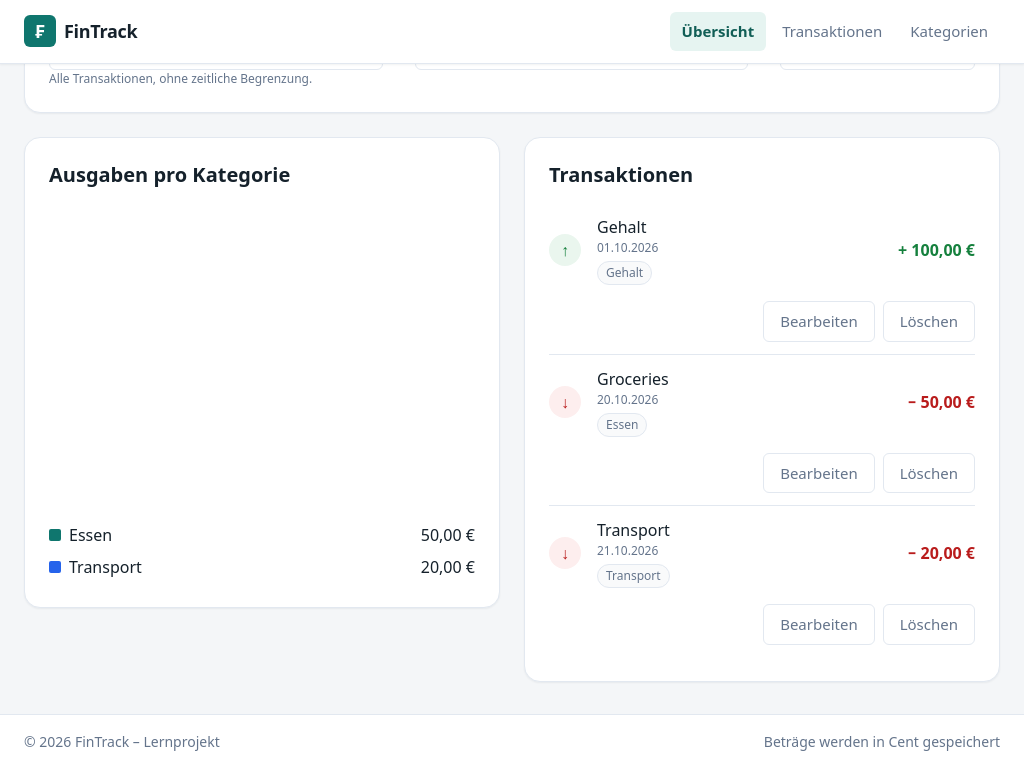
Scenario: shared transaction filters › switches transaction type and resets the category to one valid for that type
(page scrolled)
Click the button with aria-label "Groceries vom 20.10.2026, 50,00 € bearbeiten": click(819, 473) [763,452,875,493]
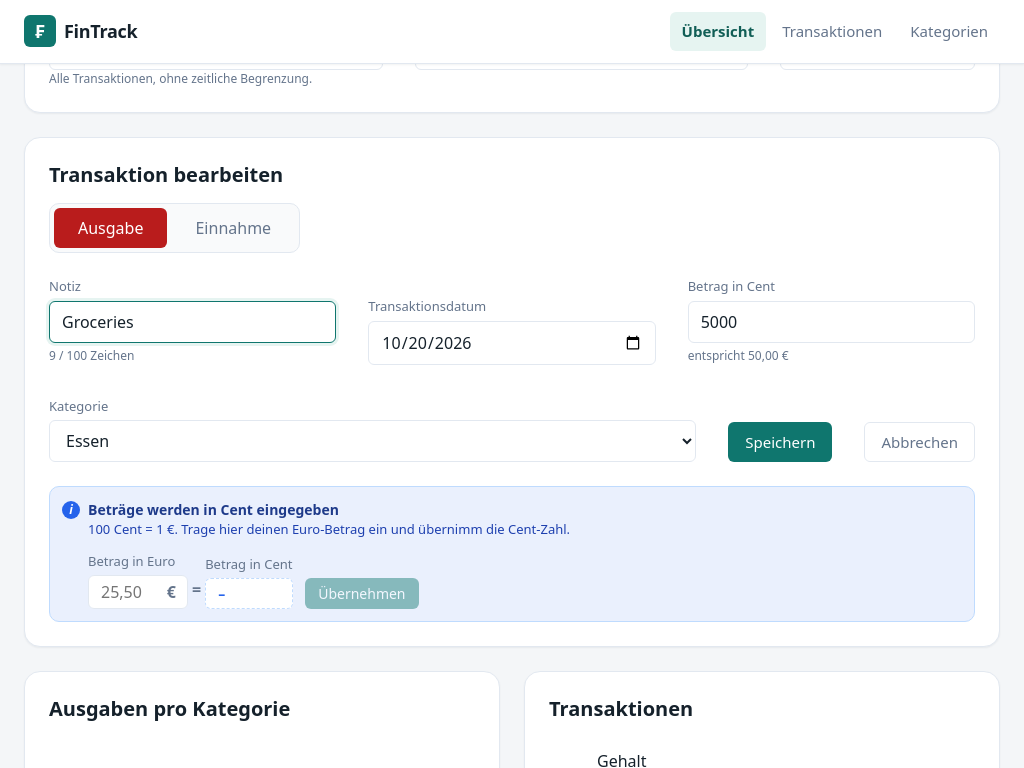
Click the button "Einnahme": click(233, 228) [172,208,295,248]
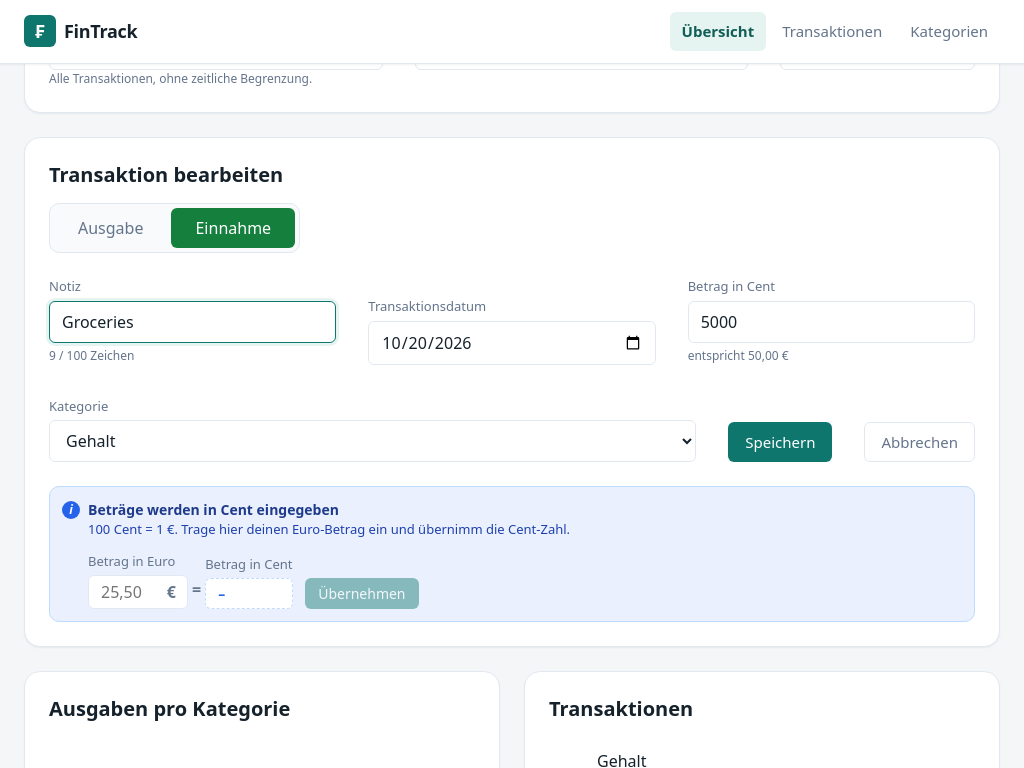
expect the dropdown labelled "Kategorie" shows "Gehalt": met
Select "Geschenk" in the dropdown labelled "Kategorie": (373, 441) [49,420,696,462]
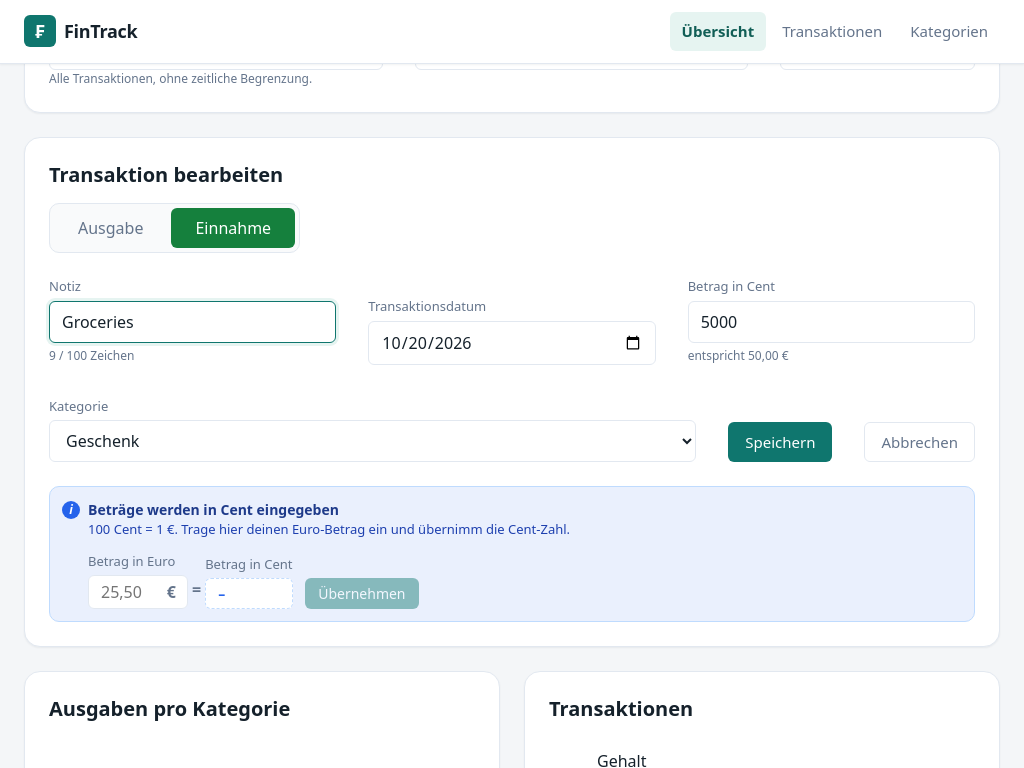
Click the button "Speichern": click(780, 442) [728,422,832,462]
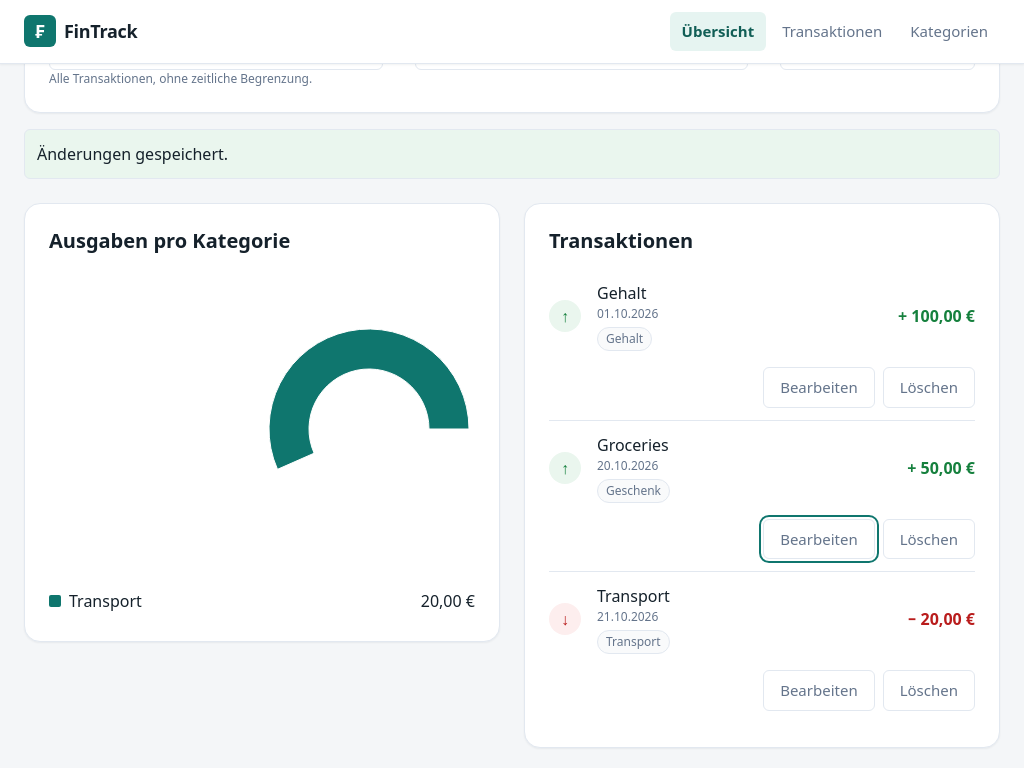
expect the text "Geschenk" is shown: met, box [597,478,670,502]
